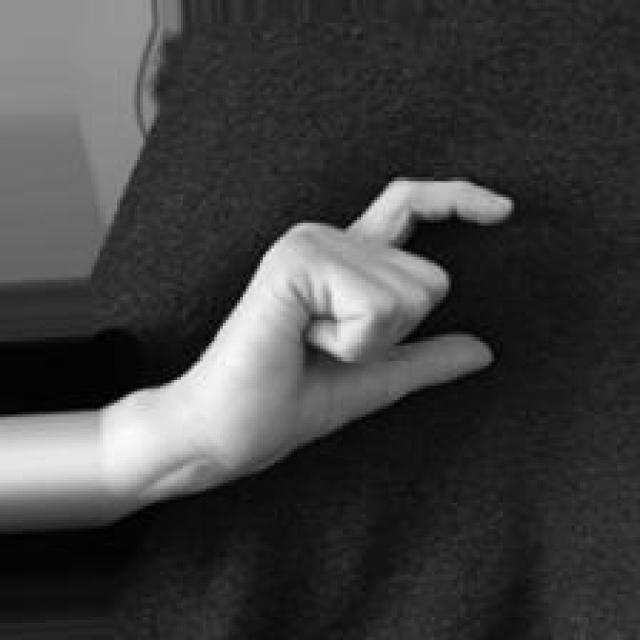C: (198, 168, 512, 497)
